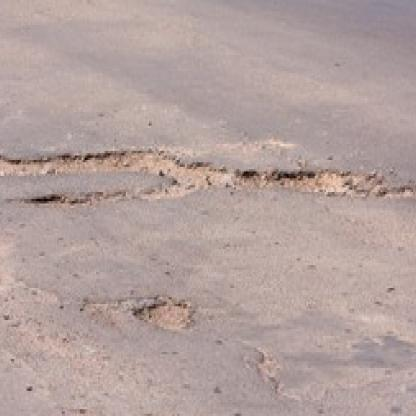pothole: (0, 146, 416, 201), (131, 297, 195, 334), (13, 188, 152, 204)
